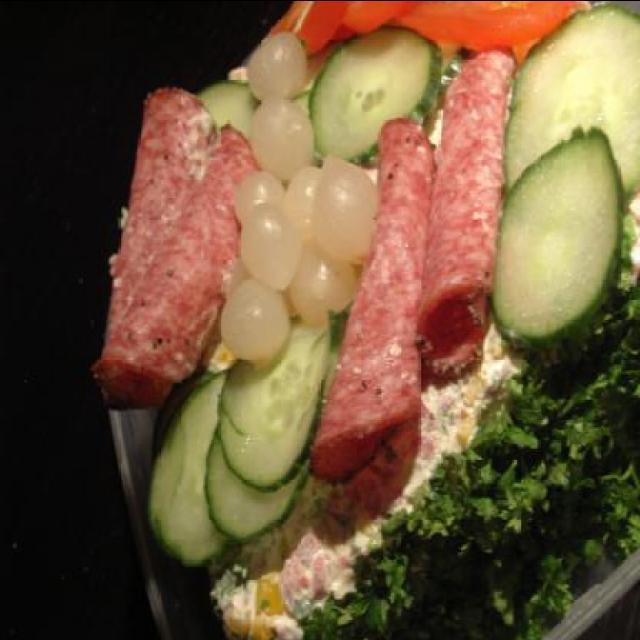Zucchini: (124, 36, 560, 622), (492, 125, 622, 353), (501, 1, 640, 209), (310, 20, 444, 163)
